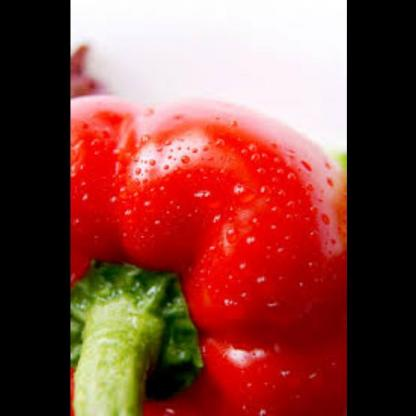bell pepper: (69, 93, 346, 416)
